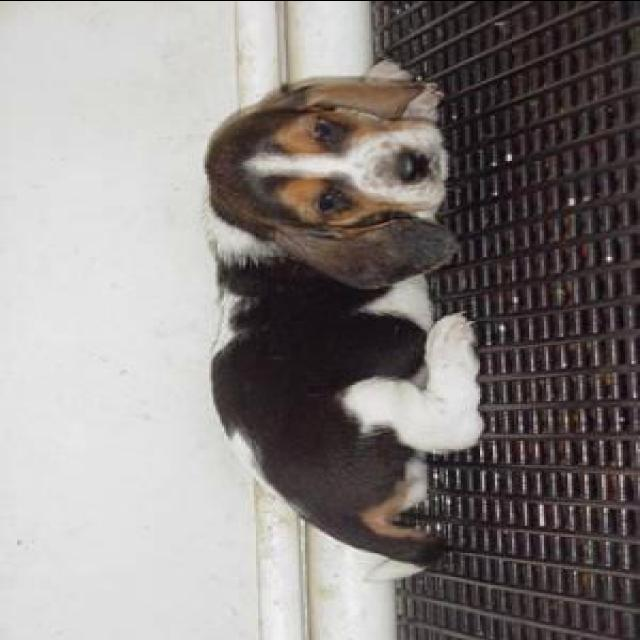basset: (200, 56, 482, 584)
